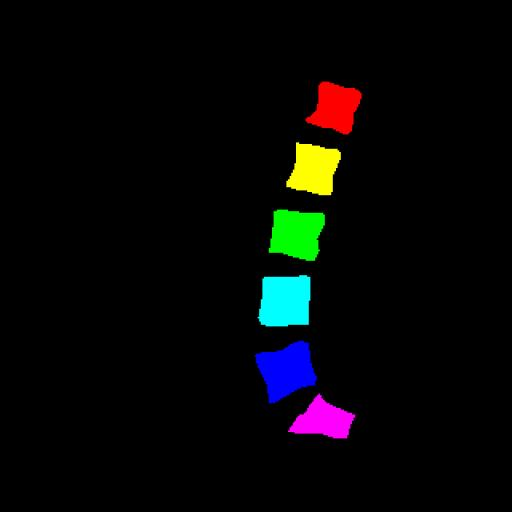L1: (306, 82, 362, 134)
L2: (286, 142, 341, 194)
L3: (269, 210, 325, 261)
L4: (259, 275, 310, 326)
L5: (256, 341, 317, 402)
S1: (289, 394, 355, 438)
